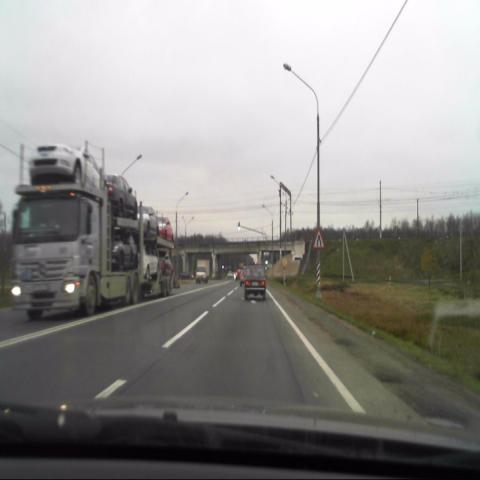1_20: (313, 229, 324, 250)
